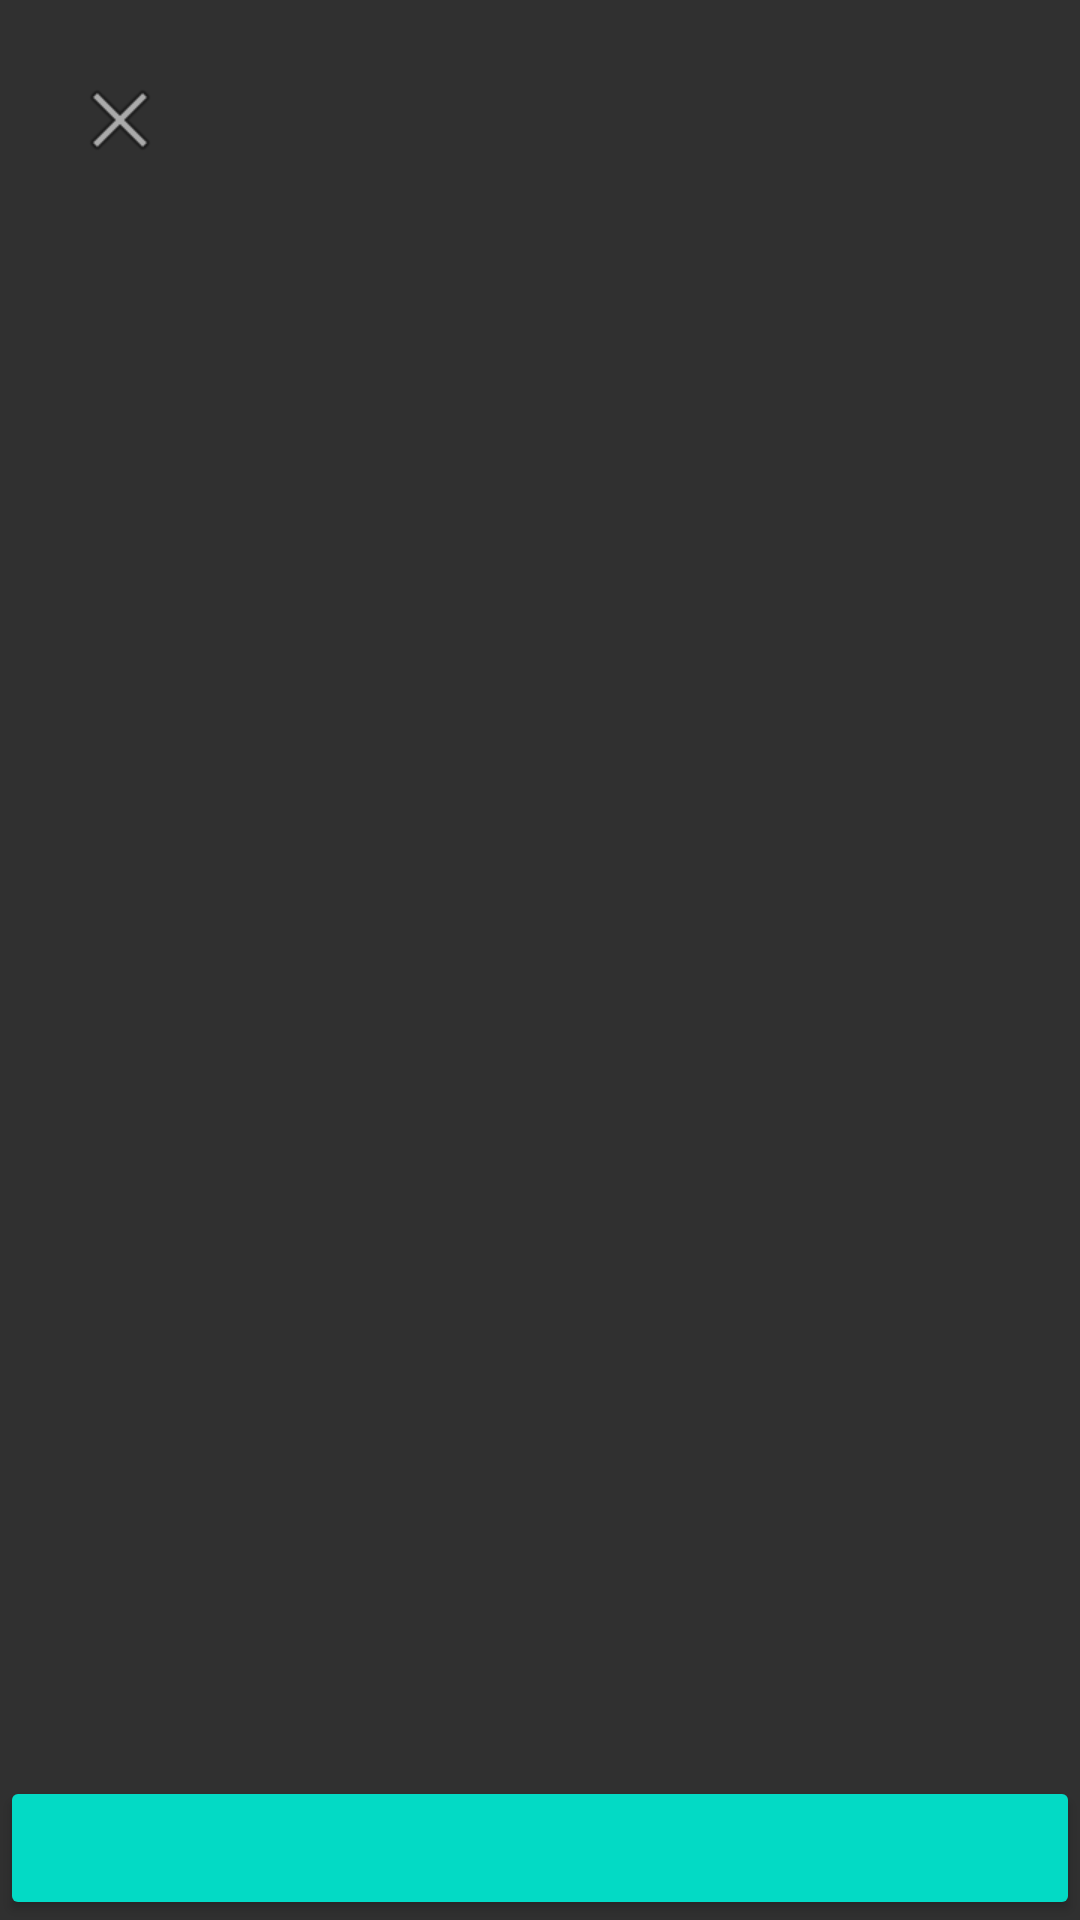

Icons on this 1080 × 1920 Android screen, each with its box as (x1, y1, x2, y2):
close clear cancel: (93, 93, 147, 147)
